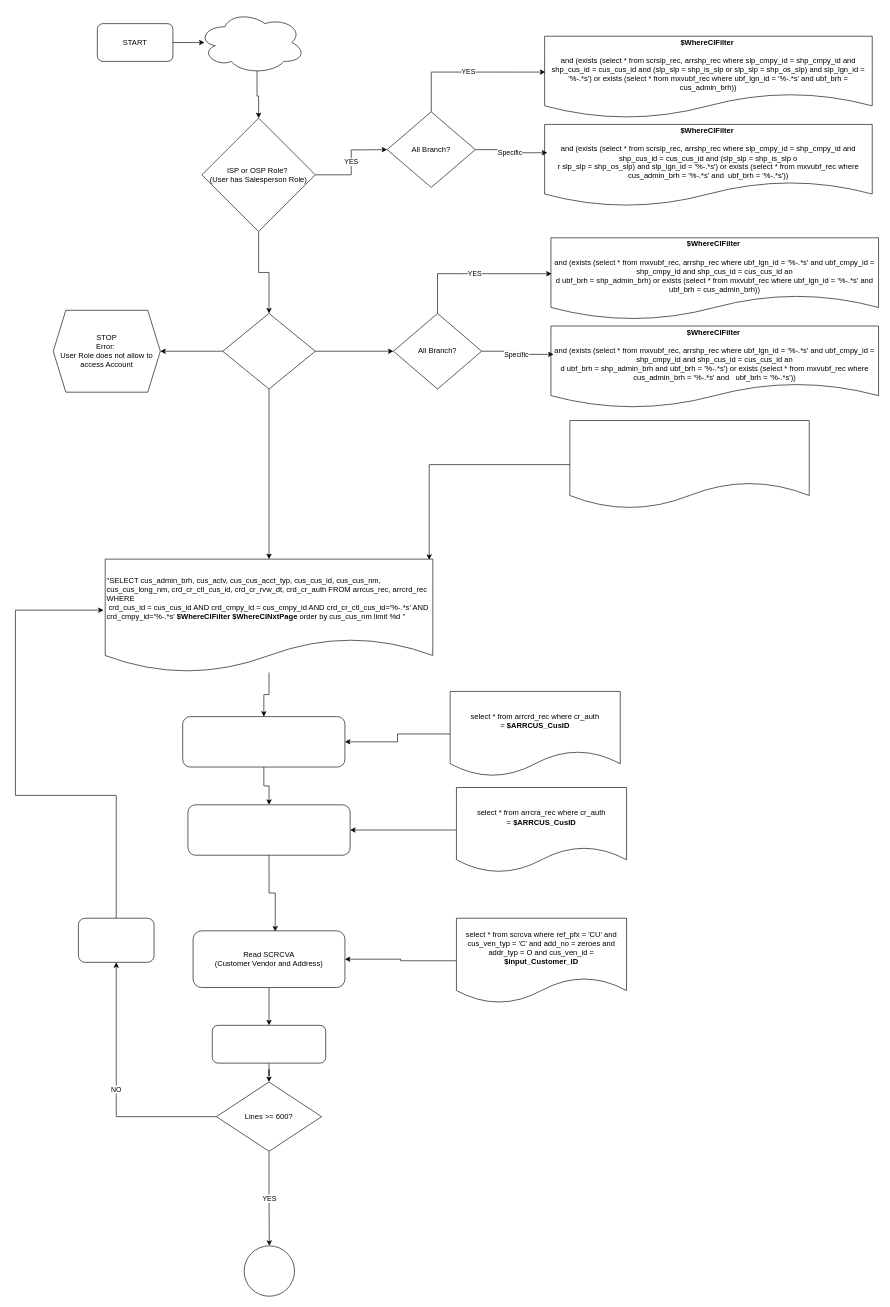
Image size: 890x1307. Some labels were removed from this diagram. The box of each missing label's shape, as (x1, y1, x2, y2) in pixels:
$ WhereClNxtPage " AND cus_cus_nm > '%s': (569, 420, 809, 509)
Fetch Next Record: (78, 918, 154, 962)
Get User Role: (198, 10, 305, 74)
Populate Output Record: (212, 1025, 326, 1063)
Read ARRCRA (Get Customer Credit and Credit Authority): (187, 804, 350, 855)
Read ARRCRD (Get Customer Credit and Credit Authority): (182, 716, 345, 767)
Return: (243, 1245, 295, 1296)
User Has Other Roles?: (222, 313, 315, 389)
